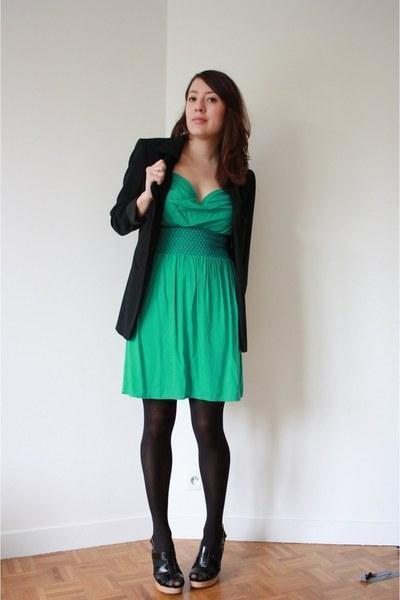dress: (122, 180, 246, 403)
jacket: (110, 112, 255, 347)
shoe: (150, 529, 223, 590)
